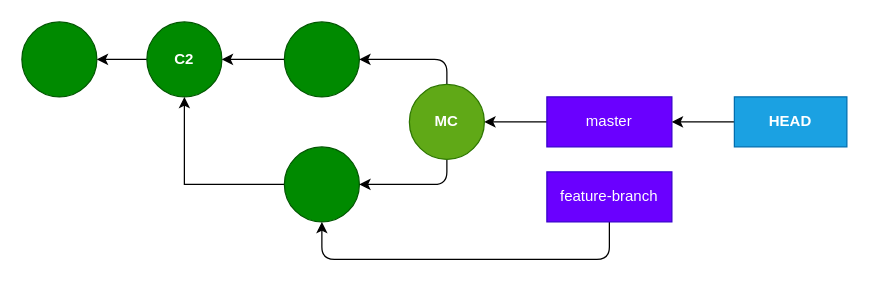
Image size: 869x291. Some labels were removed from this diagram. The shapes that lost their labels are listed below. From the top down, each one's centre as x and y in pixels, then its label:
At [59,59]: "C1".
At [321,59]: "C4".
At [321,184]: "C3".
